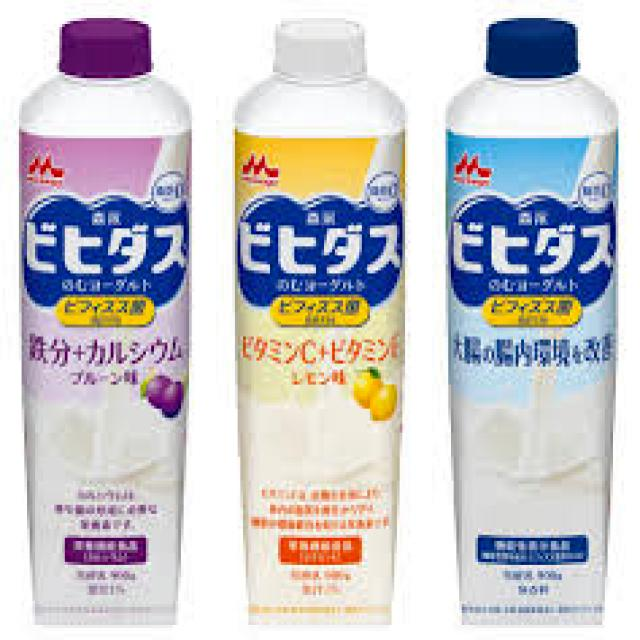Plastic: (437, 15, 625, 640), (15, 9, 195, 634), (229, 9, 410, 629)
